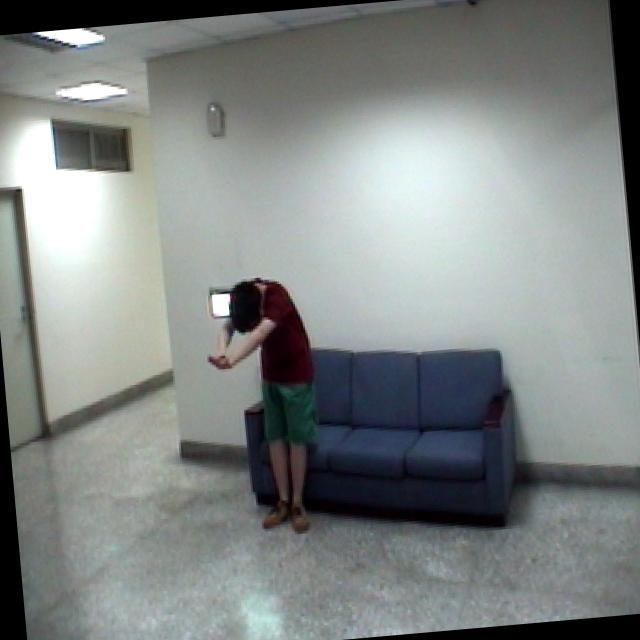bend: (184, 266, 334, 545)
